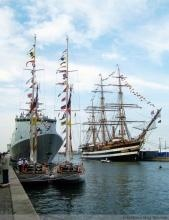fanchuan: (80, 65, 162, 160), (18, 29, 51, 184), (55, 28, 80, 182)
